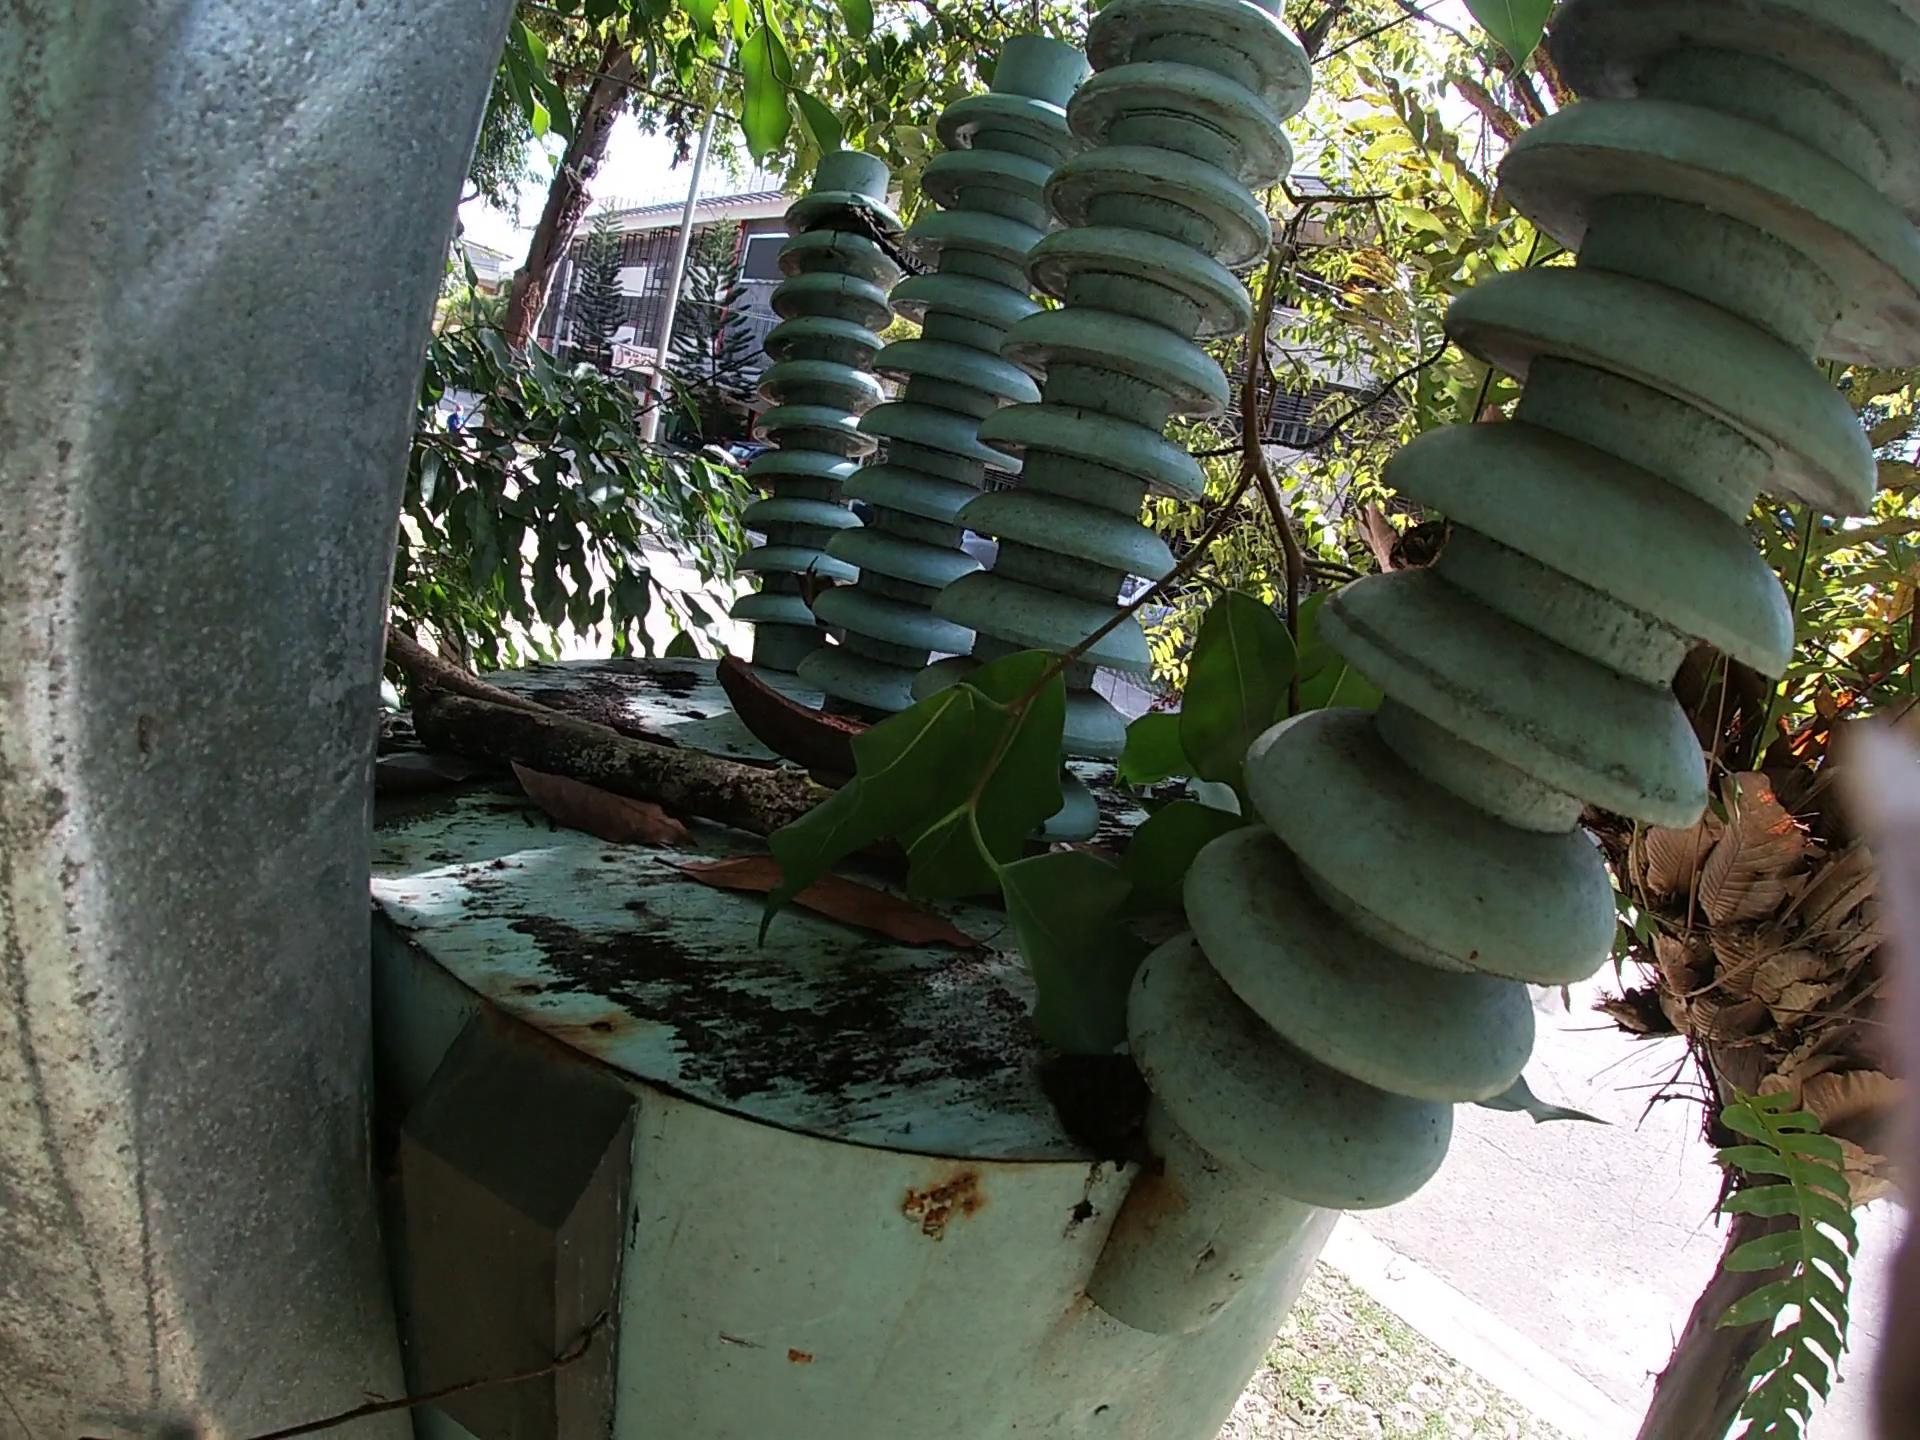branch with leaves: (788, 188, 1423, 1213)
leaf: (664, 858, 1005, 973), (500, 774, 757, 859), (1466, 1075, 1621, 1165), (348, 768, 472, 803)
mahogany fruit: (701, 650, 859, 782)
tree branch: (417, 694, 844, 836), (379, 628, 587, 714)
